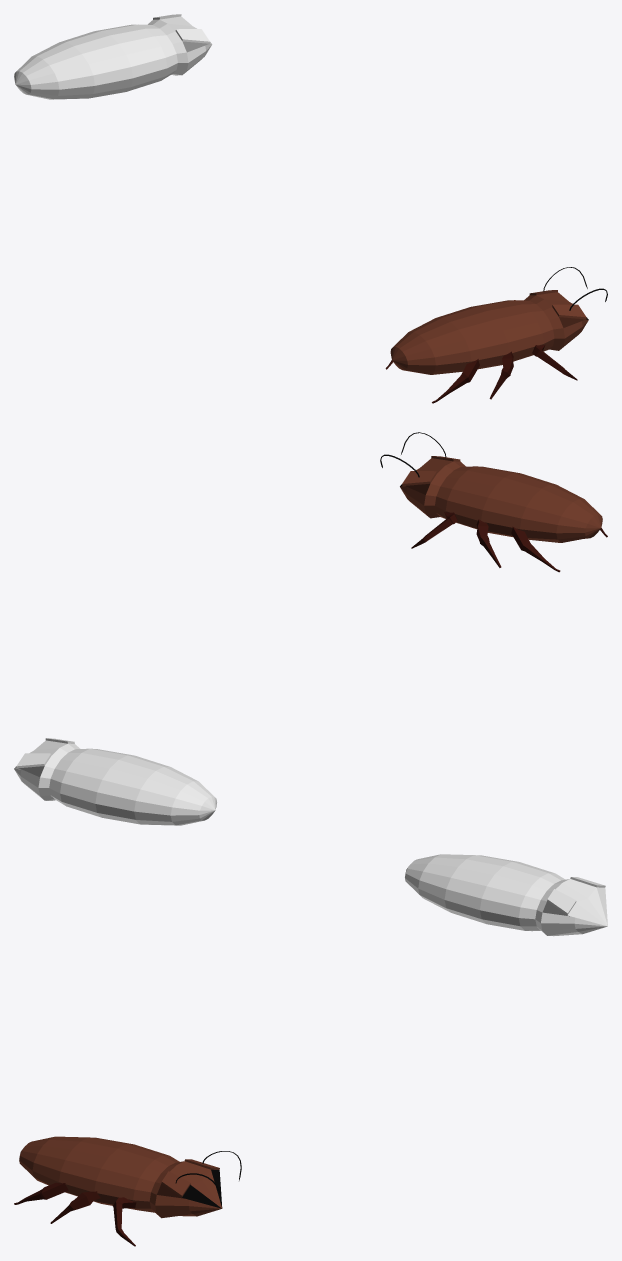
File: roach fixed unanimated.fbx
The picture shows the model from 3 angles, top to bottom: view 1: azimuth 30°, elevation 25°; view 2: azimuth 150°, elevation 25°; view 3: azimuth 330°, elevation 25°; orthographic projection. The views are drawn at different scales.
Visible parts, largest first — view 1: Body.002, Body.001; view 2: Body.002, Body.001; view 3: Body.002, Body.001.
Boxes of the visible parts, x1,y1,x2,y2 form: Body.002: [385, 290, 588, 403]; Body.001: [14, 14, 212, 99]; Body.002: [400, 456, 607, 572]; Body.001: [14, 738, 216, 825]; Body.002: [14, 1136, 222, 1246]; Body.001: [405, 854, 607, 936].
Size of the model in its own units: 388 by 120 by 1442.
